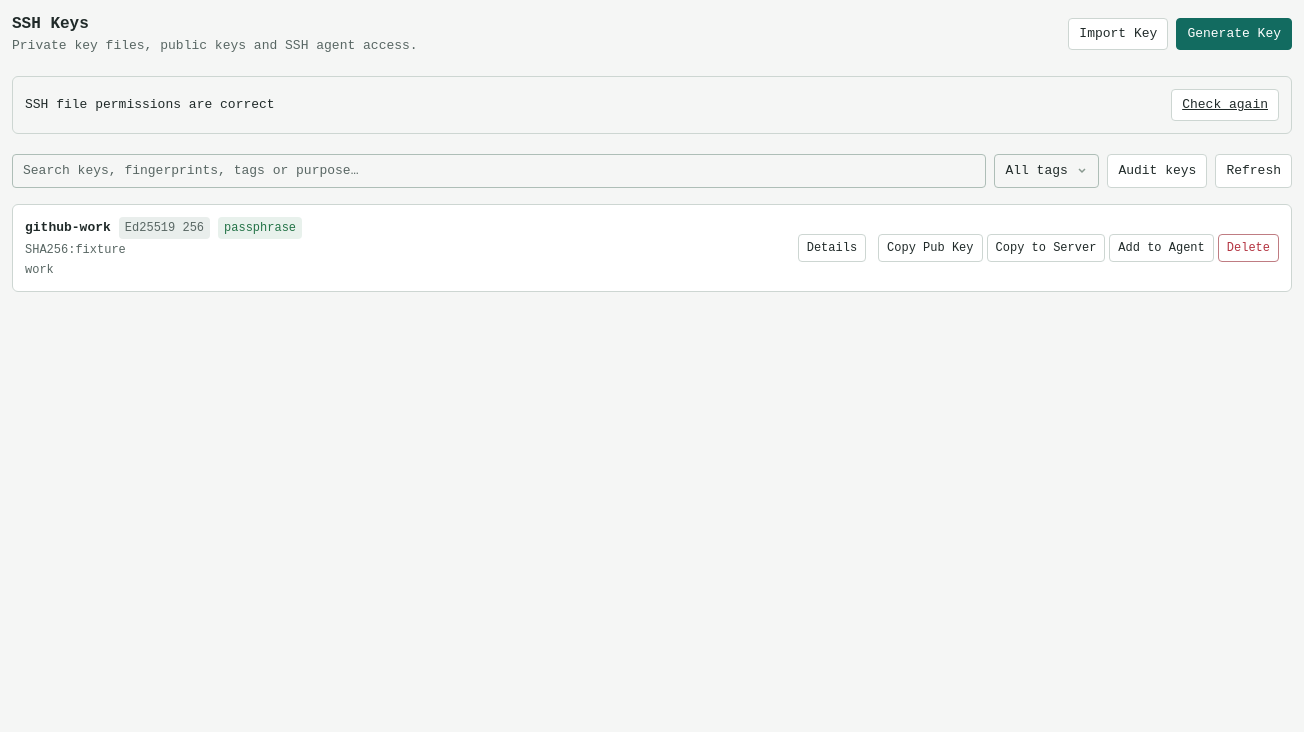
Test: adds a due-date reminder to audit without claiming that the key expired
Click the button "Audit keys".
click(1157, 171)  # box 1107,154 -> 1207,188
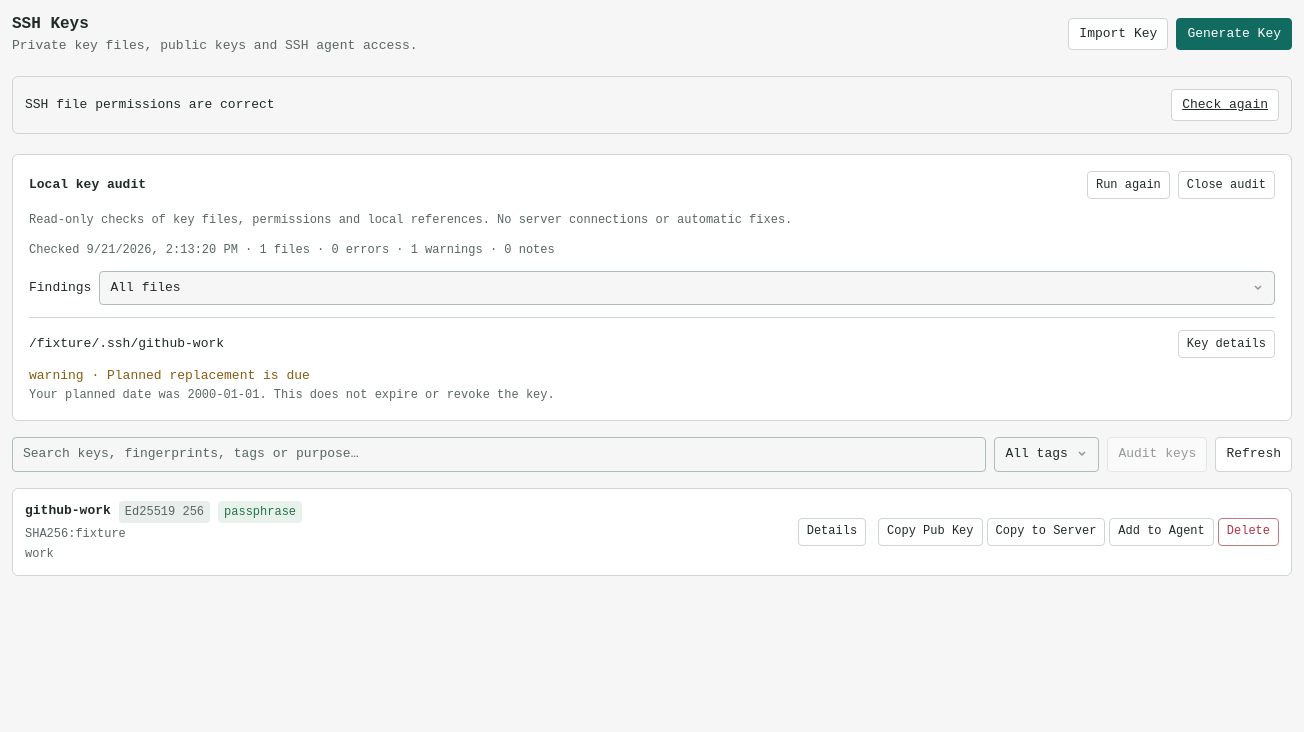
Result: the text "warning · Planned replacement is due" is shown at 29,368 -> 310,383
Result: the text "This does not expire or revoke the key" is shown at 29,388 -> 555,402
